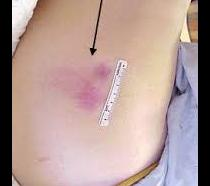Stage1: (49, 54, 115, 120)
